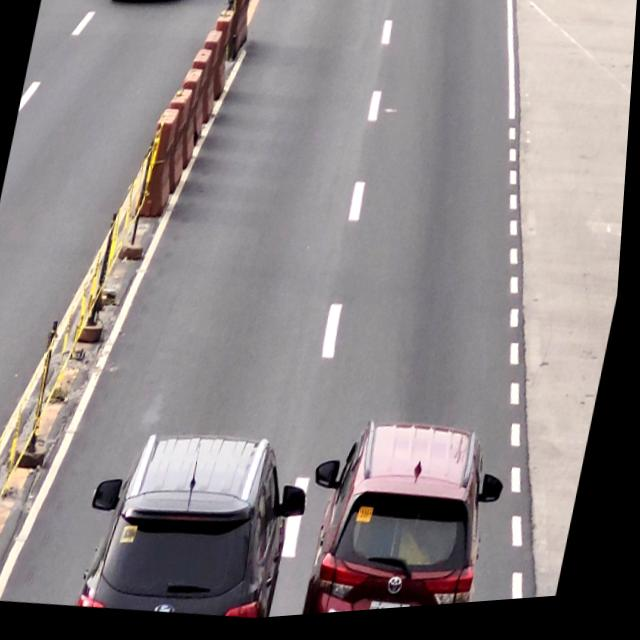Car: (93, 421, 312, 633), (316, 415, 513, 620)
License-Plate: (374, 599, 423, 616)
